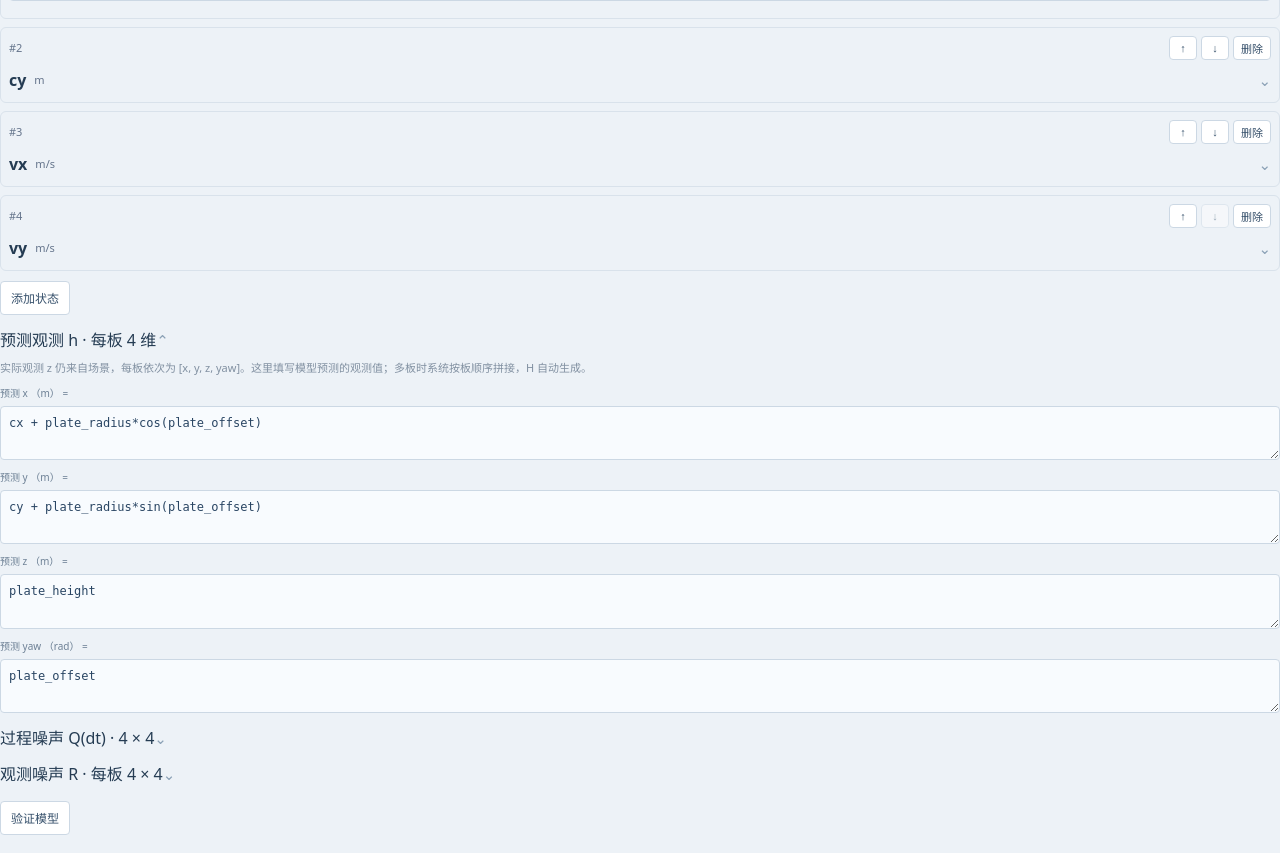
Test case: formula model form › does not display a stale validation result after a user edits while checking
(page scrolled)
Click the button "验证模型" at x=35, y=818, box [0,801,70,835]
(page scrolled)
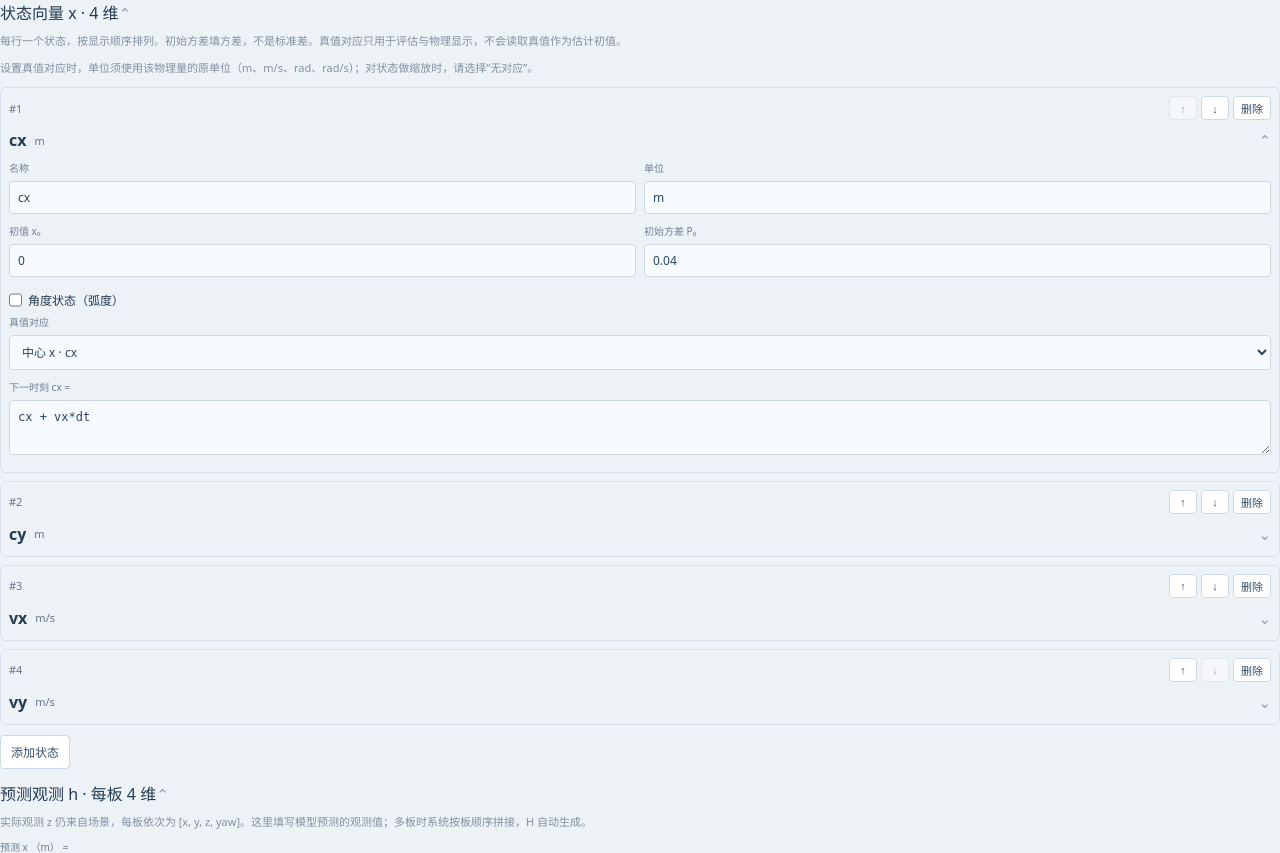
Replace the text in the text box named "状态 1 下一时刻公式" with "cx + unknown*dt" at x=640, y=428, box [9,400,1271,455]
(page scrolled)
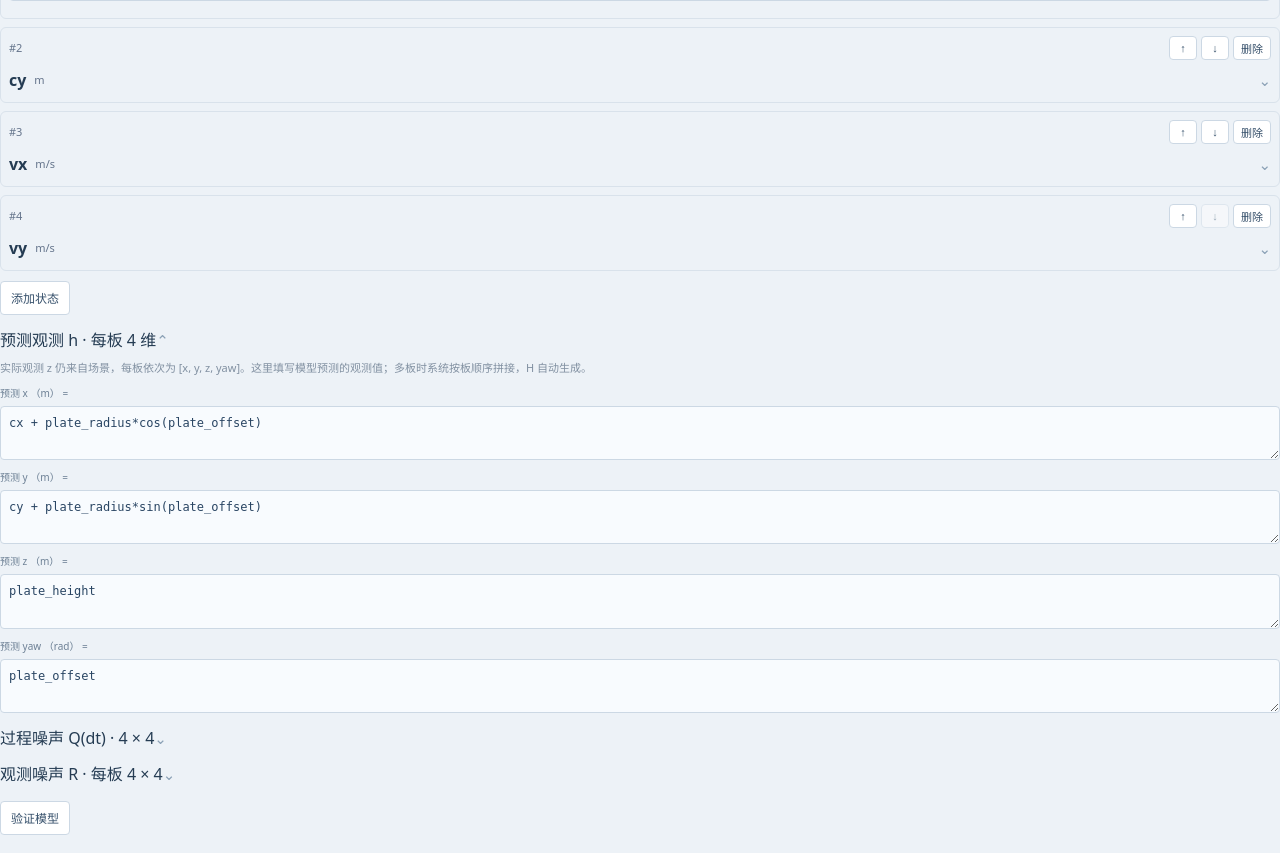
Expected: the button "验证模型" is enabled, [0,801,70,835]
